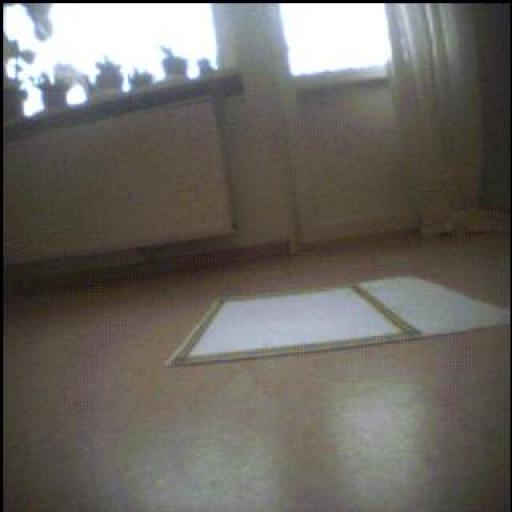Pad: (171, 278, 512, 366)
